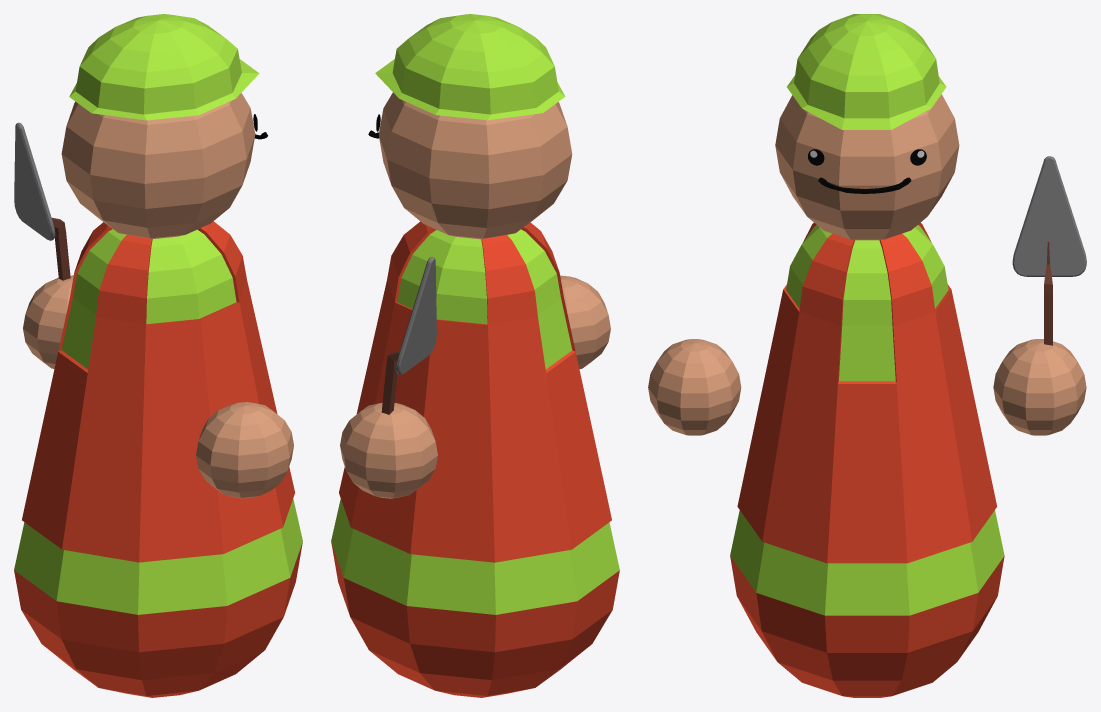
File: Mesh_Char_Mason.fbx
The picture shows the model from 3 angles, left to right: view 1: azimuth 30°, elevation 25°; view 2: azimuth 150°, elevation 25°; view 3: azimuth 270°, elevation 25°; orthographic projection.
Parts seen in each view (by area): view 1: Cube.016, Circle.008, Plane.002, Cube.017; view 2: Cube.016, Circle.008, Plane.002, Cube.017; view 3: Cube.016, Circle.008, Plane.002, Cube.017.
Part boxes in pixels (left/top/right/bottom): Cube.016: left=14, top=93, right=302, bottom=697; Circle.008: left=69, top=14, right=259, bottom=120; Plane.002: left=14, top=122, right=55, bottom=240; Cube.017: left=52, top=217, right=70, bottom=280; Cube.016: left=331, top=92, right=619, bottom=697; Circle.008: left=375, top=14, right=565, bottom=120; Plane.002: left=396, top=257, right=436, bottom=374; Cube.017: left=381, top=351, right=399, bottom=414; Cube.016: left=648, top=94, right=1086, bottom=697; Circle.008: left=787, top=14, right=946, bottom=129; Plane.002: left=1012, top=156, right=1086, bottom=276; Cube.017: left=1044, top=242, right=1052, bottom=345.
Size of the model in its own units: 81.97 by 212 by 127.
